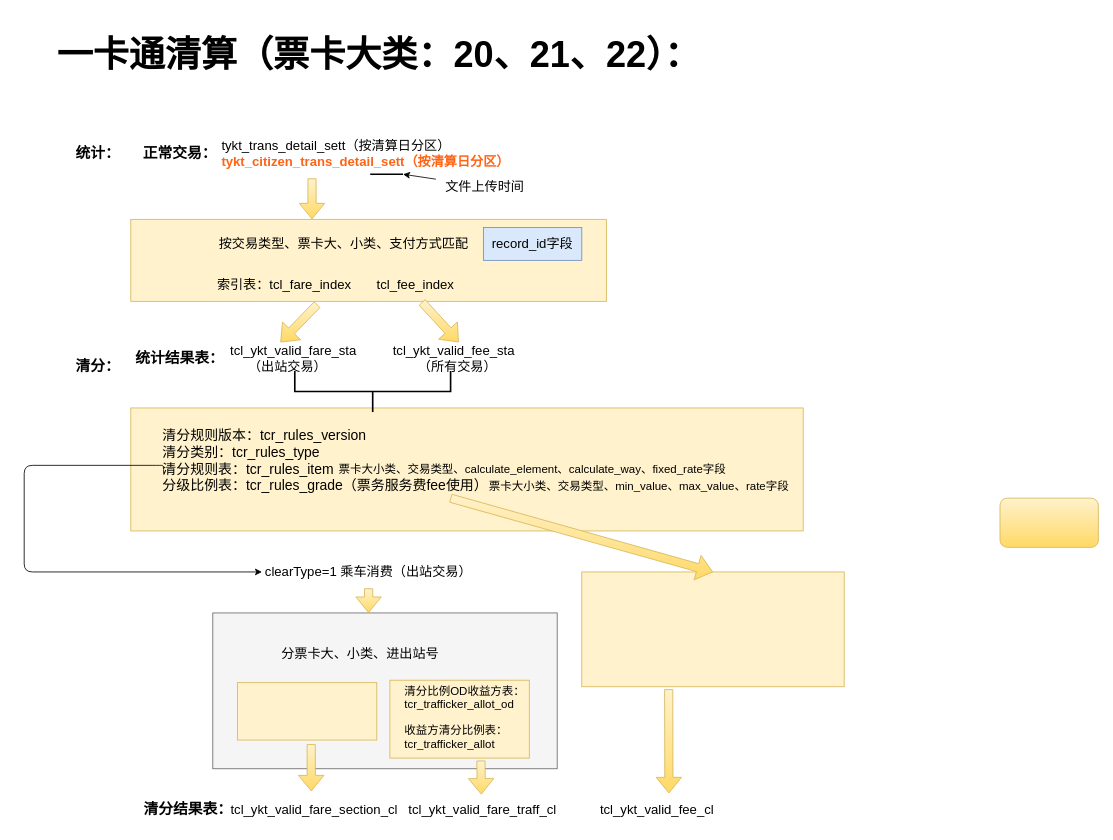
Some shapes in this 1113 by 840 pixel diagram are drawn without their labels. Here are the shapes that lost their labels. From the top down, the box of each, then its label:
(581, 571, 844, 687): clearType=2 ACC清分服务费 clearType=3 票务服务费（所有交易类型） clearType=4 一卡通清分服务费
(237, 682, 377, 740): 清分比例OD路段表：tcr_section_allot
